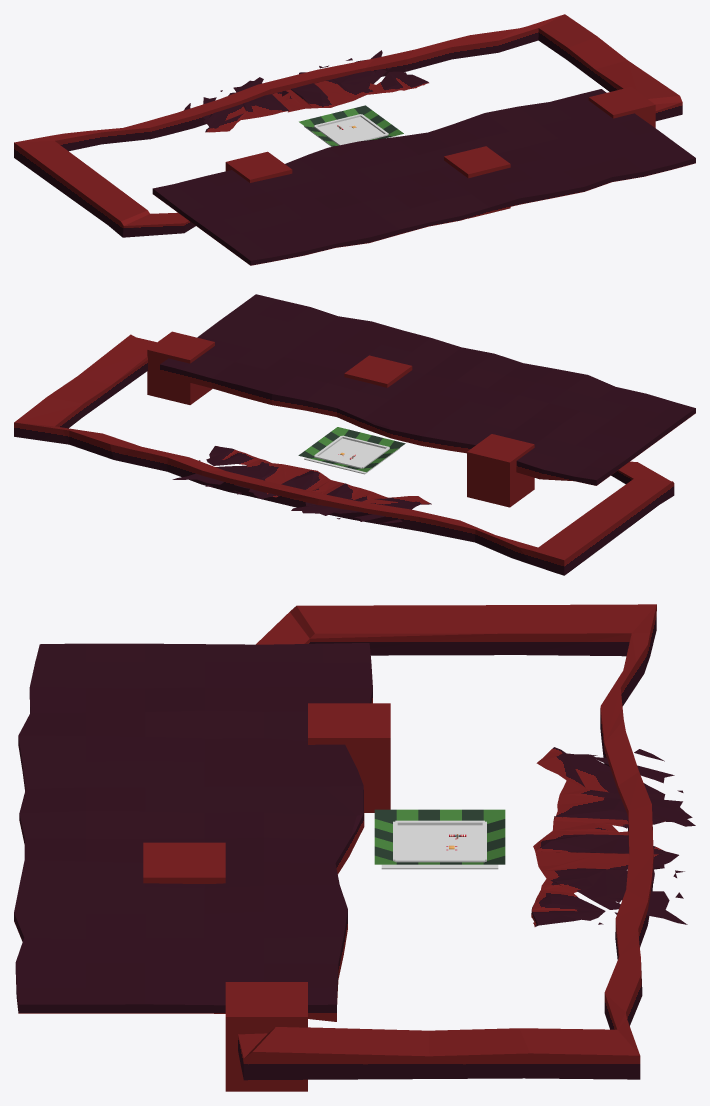
3 renders of one model, top to bottom at view 1: azimuth 30°, elevation 25°; view 2: azimuth 150°, elevation 25°; view 3: azimuth 270°, elevation 25°, orthographic. The views are drawn at different scales.
Parts seen in each view (by area): view 1: Plane, Plane.002, Plane.001, Plane.003, b.vis.001, floor.phys.hidden; view 2: Plane, Plane.002, Plane.003, Plane.001, b.vis.001, floor.phys.hidden; view 3: Plane, Plane.002, Plane.001, Plane.003, floor.phys.hidden, b.vis.001.
Boxes of the visible parts, left/top/right/bottom form: Plane: left=152, top=89, right=695, bottom=265; Plane.002: left=14, top=14, right=682, bottom=237; Plane.001: left=184, top=50, right=428, bottom=132; Plane.003: left=225, top=87, right=655, bottom=218; b.vis.001: left=299, top=105, right=403, bottom=146; floor.phys.hidden: left=304, top=117, right=397, bottom=146; Plane: left=160, top=294, right=695, bottom=485; Plane.002: left=14, top=334, right=674, bottom=575; Plane.003: left=147, top=331, right=534, bottom=507; Plane.001: left=172, top=446, right=431, bottom=523; b.vis.001: left=298, top=427, right=405, bottom=472; floor.phys.hidden: left=304, top=438, right=399, bottom=474; Plane: left=14, top=643, right=372, bottom=1021; Plane.002: left=238, top=604, right=656, bottom=1080; Plane.001: left=531, top=747, right=695, bottom=926; Plane.003: left=143, top=703, right=390, bottom=1091; floor.phys.hidden: left=381, top=825, right=498, bottom=869; b.vis.001: left=374, top=809, right=505, bottom=864.
Size of the model in its own units: 365 by 28.28 by 234.
Materials: 3 (1 with a texture image).
